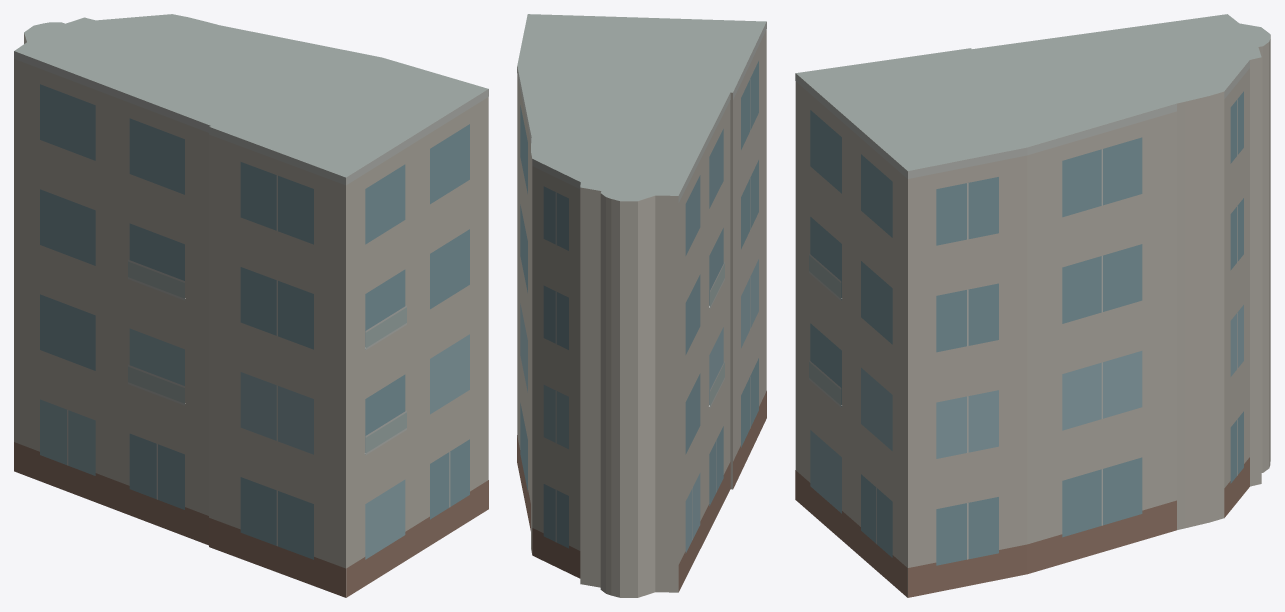
The model's file is survey-upis-32723561.glb.
3 renders of one model, left to right at view 1: azimuth 30°, elevation 25°; view 2: azimuth 150°, elevation 25°; view 3: azimuth 270°, elevation 25°, orthographic. The views are drawn at different scales.
Parts seen in each view (by area): view 1: survey-upis-32723561.tmp; view 2: survey-upis-32723561.tmp; view 3: survey-upis-32723561.tmp.
Part boxes in pixels (<box>): survey-upis-32723561.tmp: <box>14,14,488,597</box>; survey-upis-32723561.tmp: <box>517,14,766,597</box>; survey-upis-32723561.tmp: <box>795,14,1270,597</box>.
Bounding box in the file's own units: 10.44 × 13.2 × 13.32.
